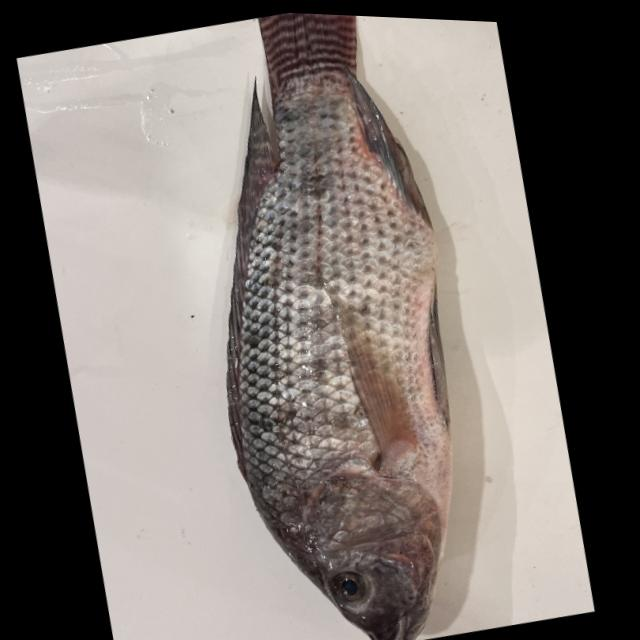Tilapia: (137, 7, 522, 640)
